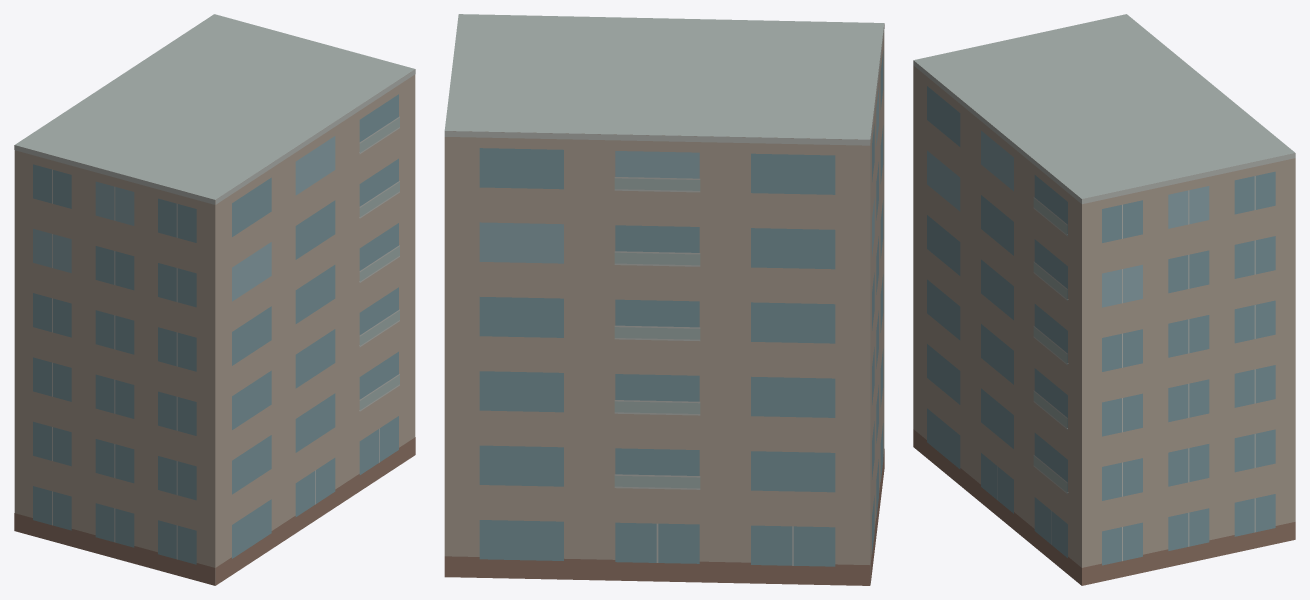
Rendered from survey-upis-32838678.glb.
3 renders of one model, left to right at view 1: azimuth 30°, elevation 25°; view 2: azimuth 150°, elevation 25°; view 3: azimuth 270°, elevation 25°, orthographic. The views are drawn at different scales.
Visible parts, largest first — view 1: survey-upis-32838678.tmp; view 2: survey-upis-32838678.tmp; view 3: survey-upis-32838678.tmp.
Part boxes in pixels (x1,y1,x2,y2): survey-upis-32838678.tmp: (14, 14, 415, 585); survey-upis-32838678.tmp: (444, 14, 884, 585); survey-upis-32838678.tmp: (913, 14, 1295, 585).
Bounding box in the file's own units: 18.79 × 18.3 × 16.4.
